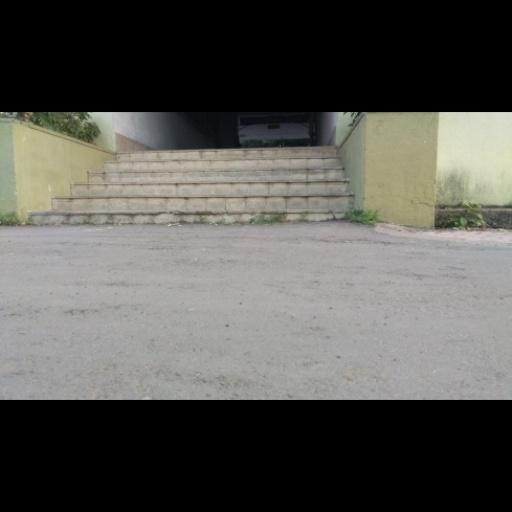stairs: (29, 148, 351, 224)
